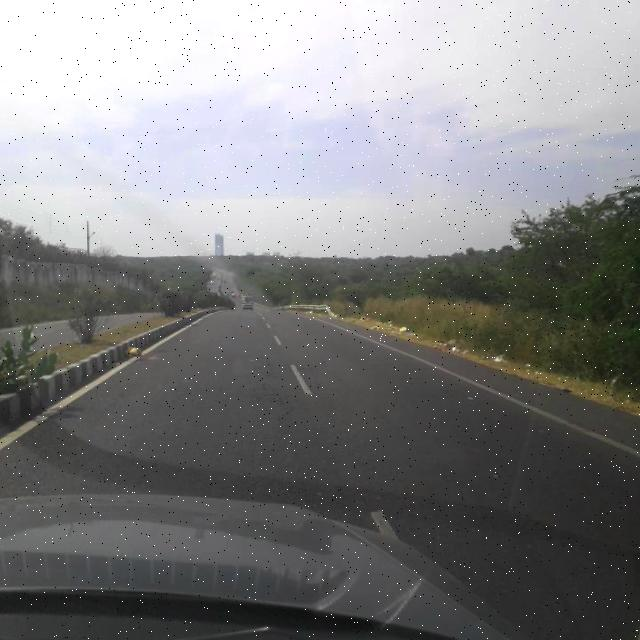D00: (245, 332, 306, 444)
